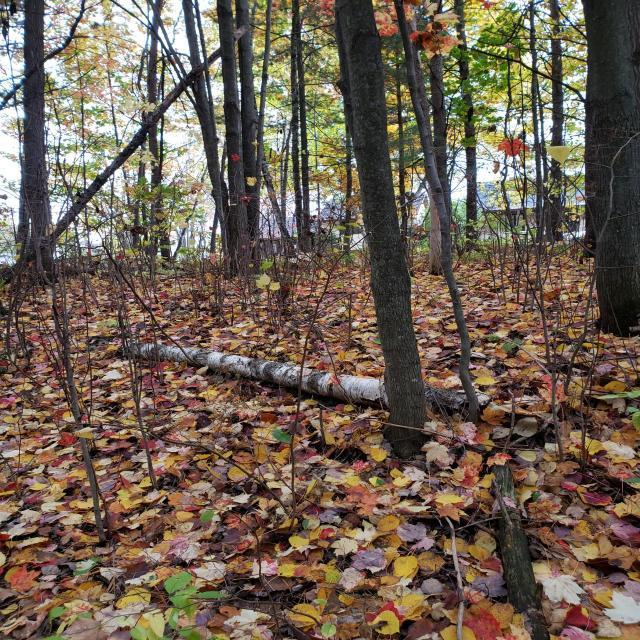fallen_object: (55, 301, 522, 443), (24, 11, 272, 268)
